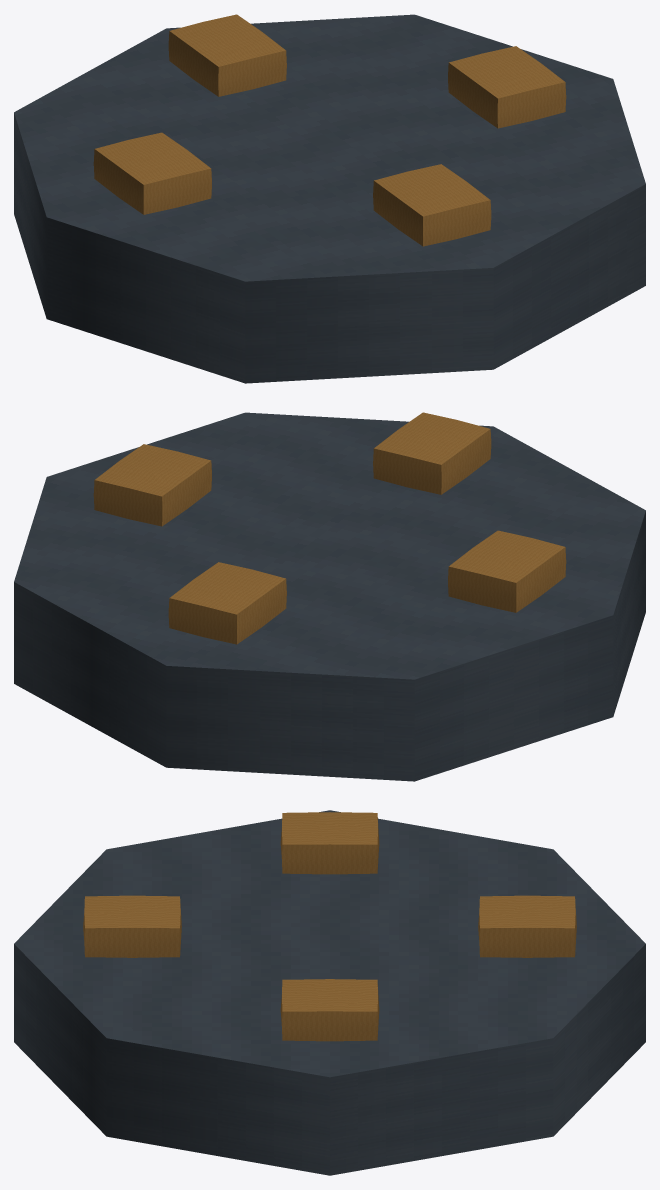
Rendered from trip-mine.lod2.glb.
The picture shows the model from 3 angles, top to bottom: view 1: azimuth 30°, elevation 25°; view 2: azimuth 150°, elevation 25°; view 3: azimuth 270°, elevation 25°; orthographic projection. The views are drawn at different scales.
Visible parts, largest first — view 1: iron.0, brass.2, brass.4, brass.3, brass.1; view 2: iron.0, brass.4, brass.2, brass.3, brass.1; view 3: iron.0, brass.2, brass.4, brass.1, brass.3.
Part boxes in pixels (box(x1,y1,x2,y2)): iron.0: box(14, 14, 645, 383); brass.2: box(373, 164, 491, 246); brass.4: box(168, 14, 286, 96); brass.3: box(93, 132, 211, 214); brass.1: box(448, 46, 566, 128); iron.0: box(14, 412, 645, 781); brass.4: box(168, 562, 286, 644); brass.2: box(373, 412, 491, 494); brass.3: box(448, 530, 566, 612); brass.1: box(93, 444, 211, 526); iron.0: box(14, 810, 645, 1175); brass.2: box(83, 895, 181, 957); brass.4: box(478, 895, 576, 957); brass.1: box(280, 979, 379, 1041); brass.3: box(280, 812, 379, 874).
Size of the model in its own units: 0.32 by 0.0735 by 0.32.
2 materials, 2 textured.
